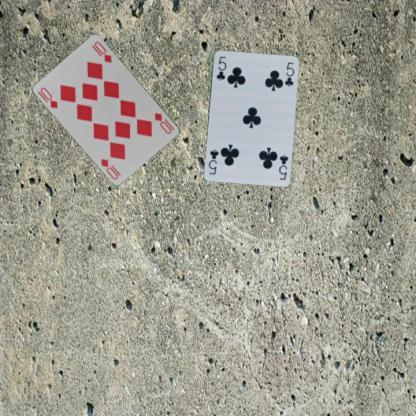10d: (152, 110, 176, 136), (38, 85, 60, 110)
5c: (213, 54, 228, 81), (276, 152, 289, 181)
